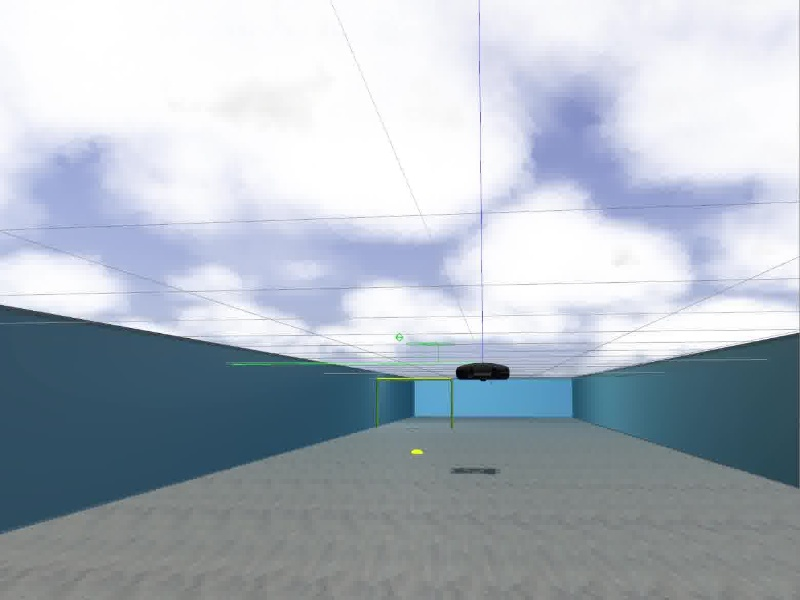gate: (373, 375, 455, 429)
